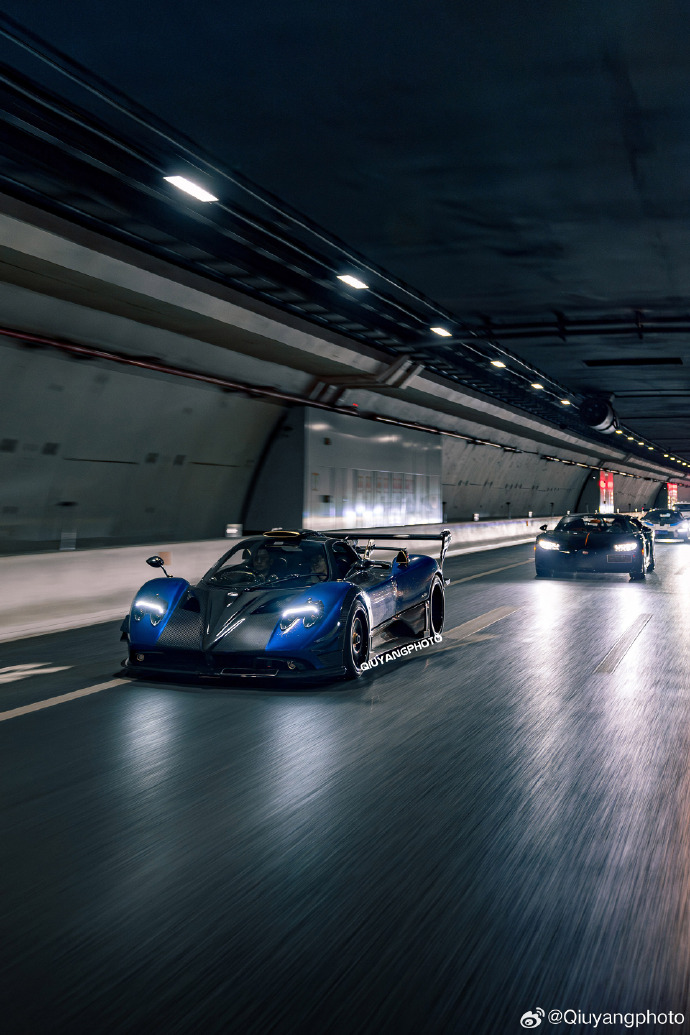other: (126, 507, 469, 673), (528, 506, 658, 582)
